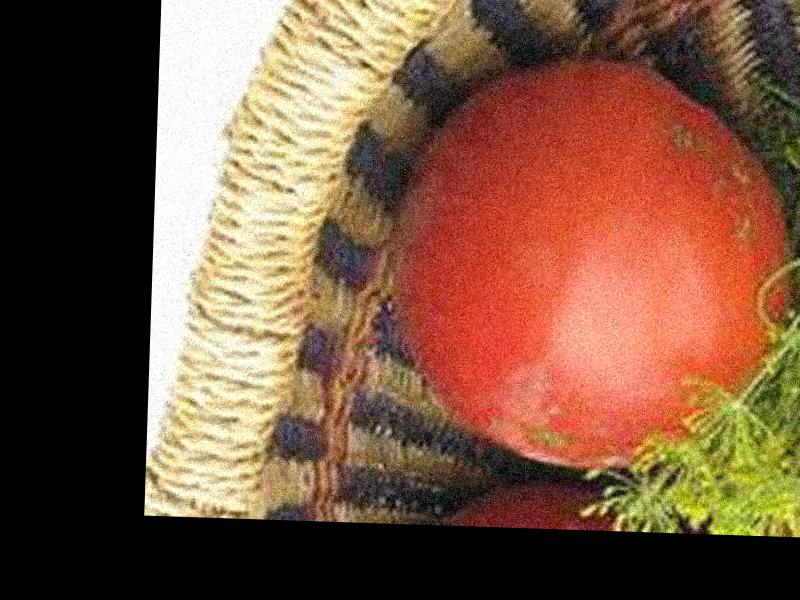Tomato: (386, 57, 800, 476)
